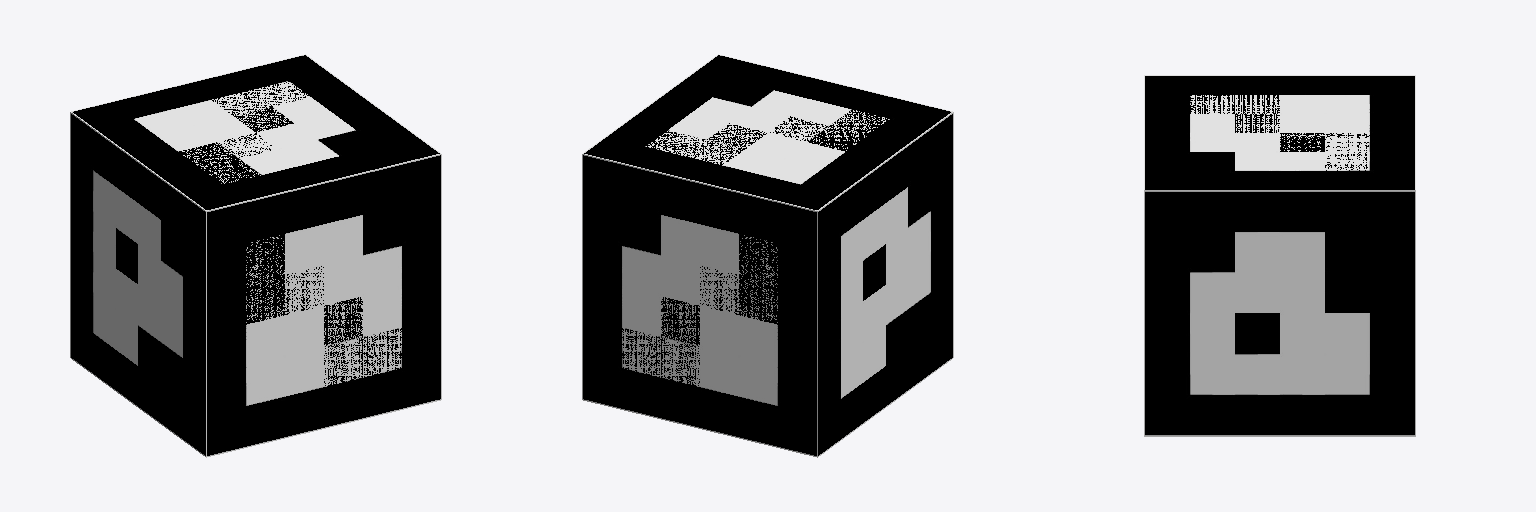
3 renders of one model, left to right at view 1: azimuth 30°, elevation 25°; view 2: azimuth 150°, elevation 25°; view 3: azimuth 270°, elevation 25°, orthographic.
Parts seen in each view (by area): view 1: Cube; view 2: Cube; view 3: Cube.
Part boxes in pixels (left/top/right/bottom): Cube: left=70, top=54, right=441, bottom=457; Cube: left=582, top=54, right=953, bottom=457; Cube: left=1144, top=75, right=1415, bottom=436.
Bounding box in the file's own units: 1 × 1 × 1.
1 materials, 1 textured.